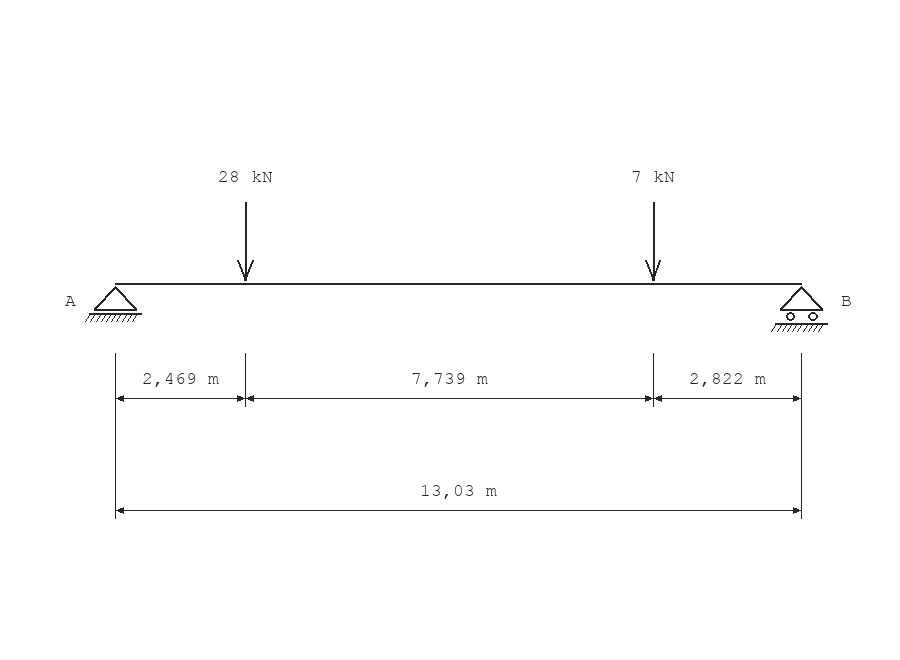pin_support: (85, 286, 142, 322)
point_load: (237, 202, 254, 281), (645, 202, 661, 281)
roller_support: (771, 286, 828, 332)
